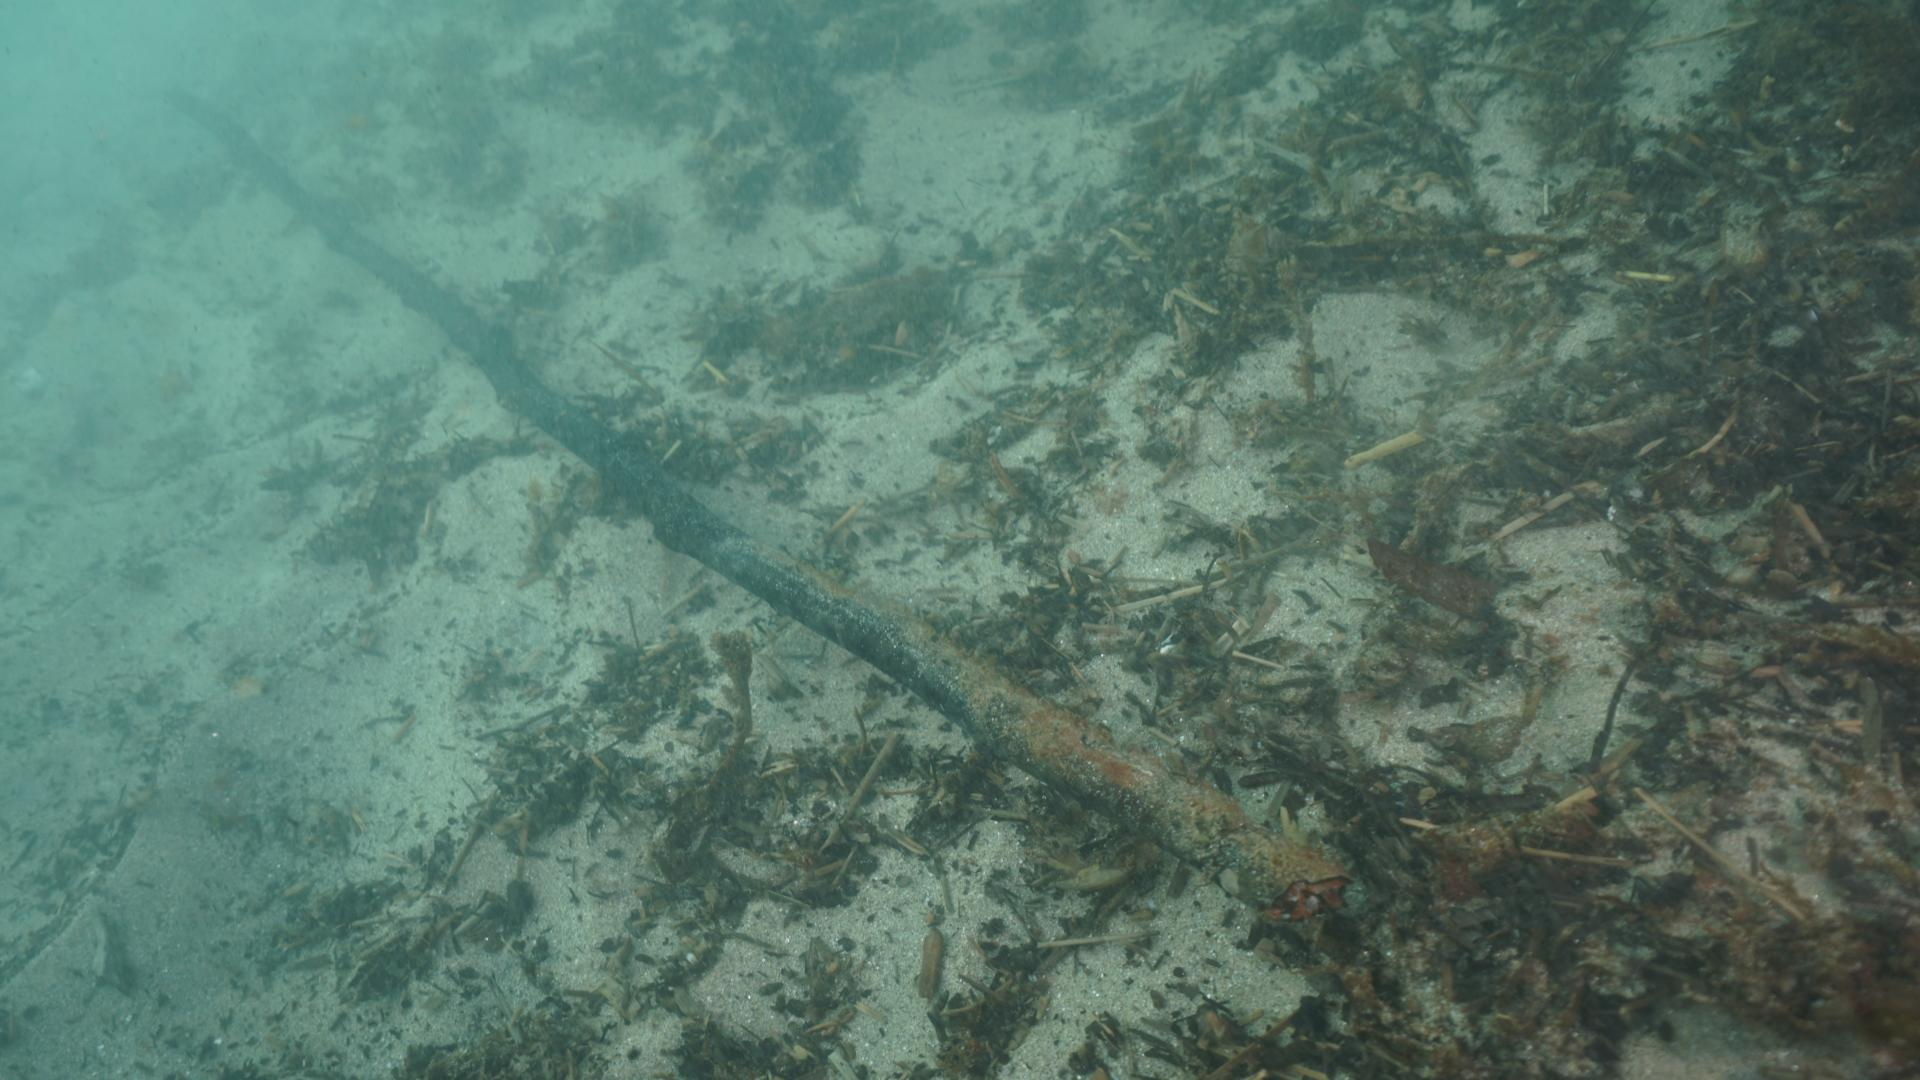wood: (173, 87, 1338, 902)
